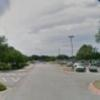cars: (75, 64, 86, 73)
